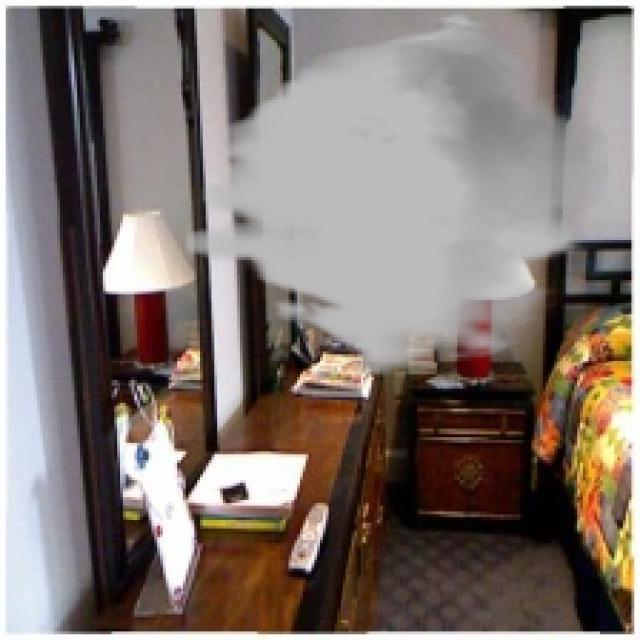Smoke: (186, 12, 608, 377)
